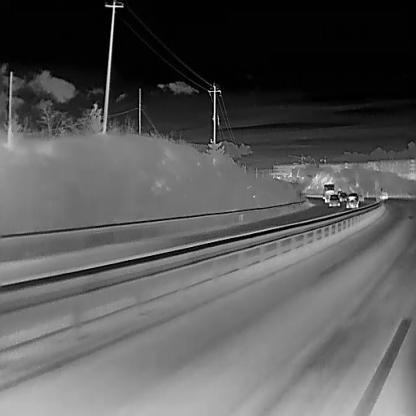car: (323, 183, 336, 203), (345, 192, 358, 209), (328, 193, 340, 207), (378, 187, 388, 200), (337, 191, 347, 202), (336, 190, 343, 198)
